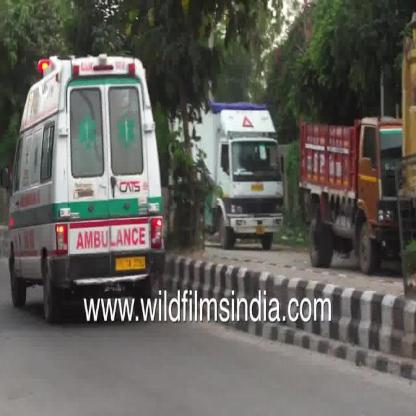priority: (0, 44, 178, 298)
